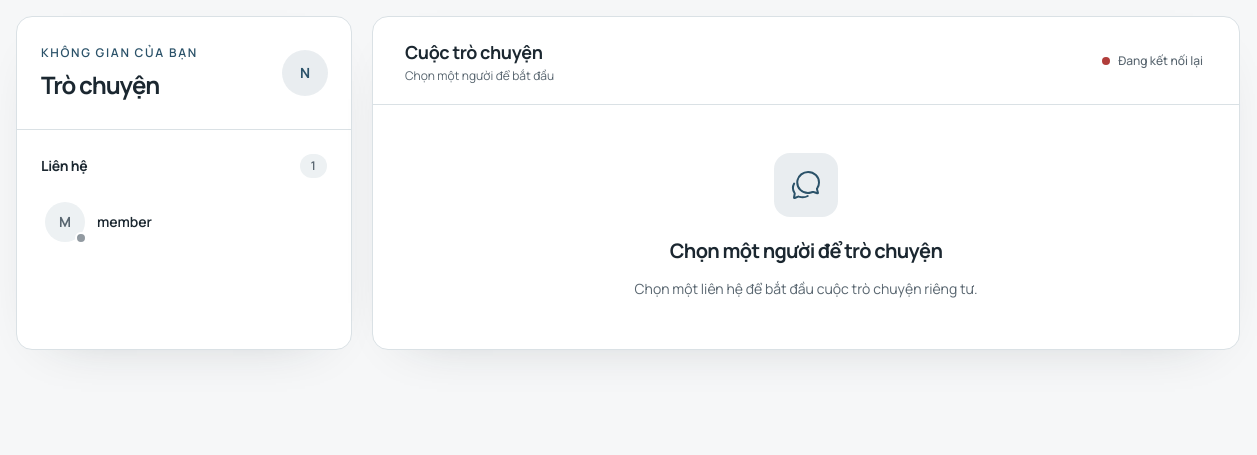
Scenario: shows realtime connection state and gates call actions
The width and height of the screenshot is (1257, 455).
Later steps or results of the test are not shown.
Click the button "M member" at point(65, 222), box 33,190 -> 335,254
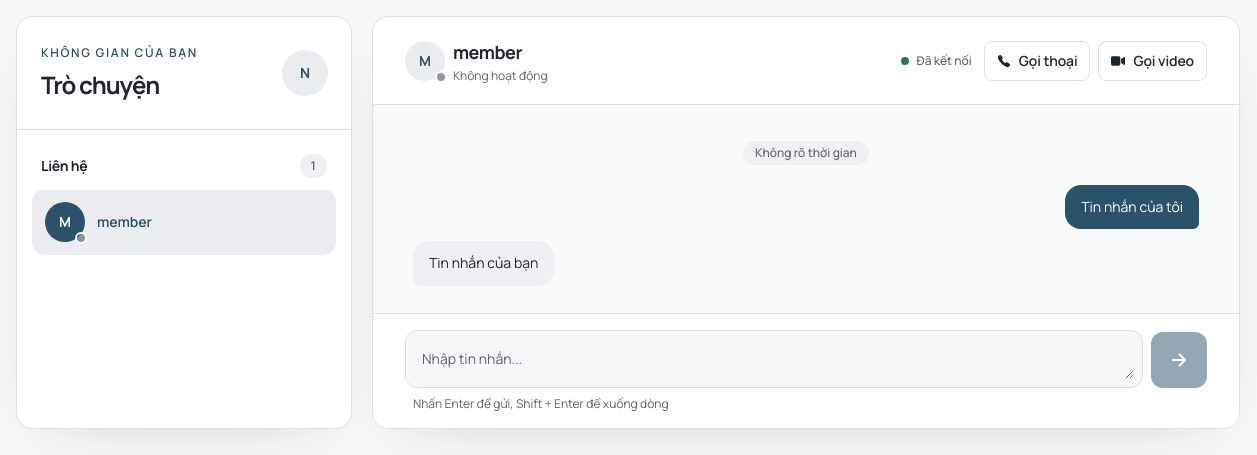
Now the text "Đã kết nối" is shown, box 900,52 -> 972,68
Now the button with aria-label "Gọi thoại cho member" is enabled, box 984,40 -> 1090,80
